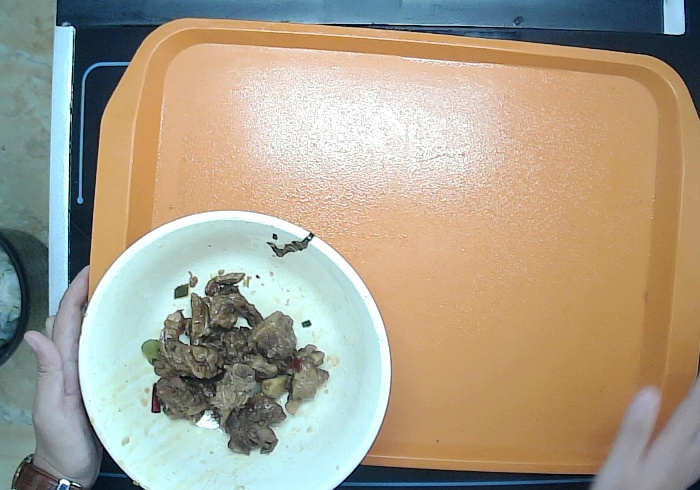ZNLD-Da_Tang_Wan: (69, 204, 399, 490)
